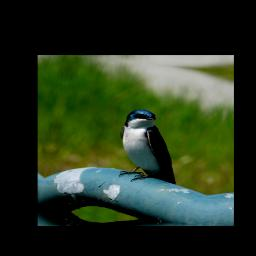Swallow: (108, 106, 191, 187)
